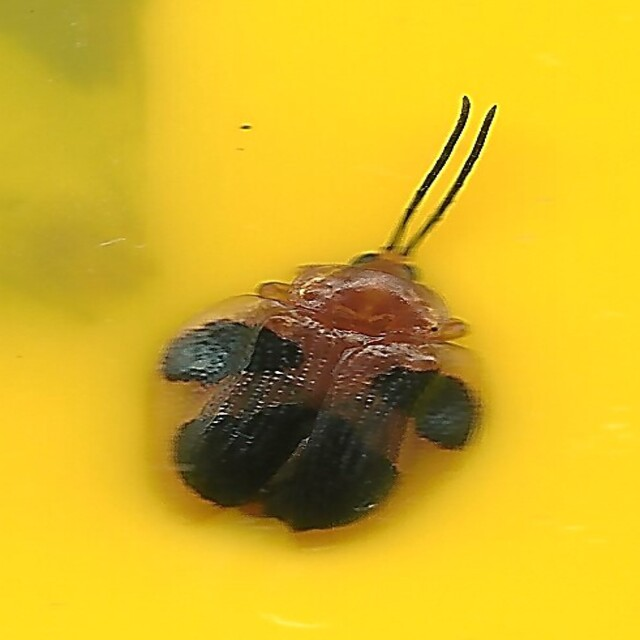Coleoptera: (130, 91, 510, 549)
